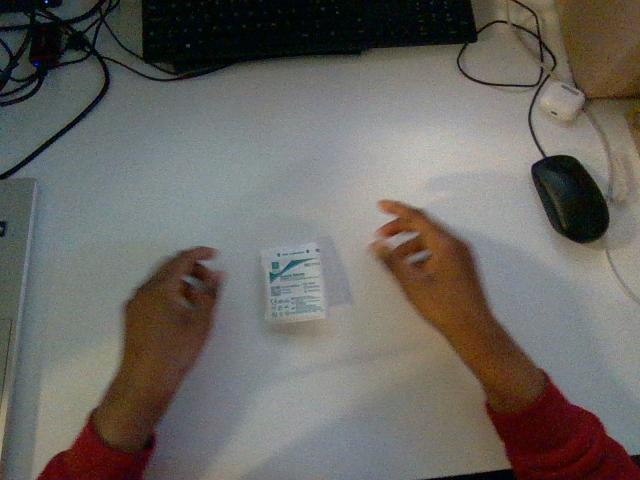gauze: (261, 242, 327, 322)
